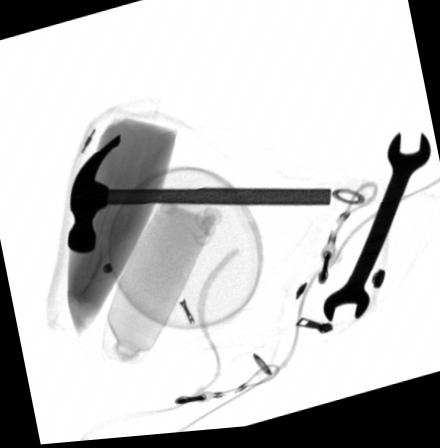Hammer: (65, 134, 329, 253)
Wrench: (322, 137, 430, 328)
